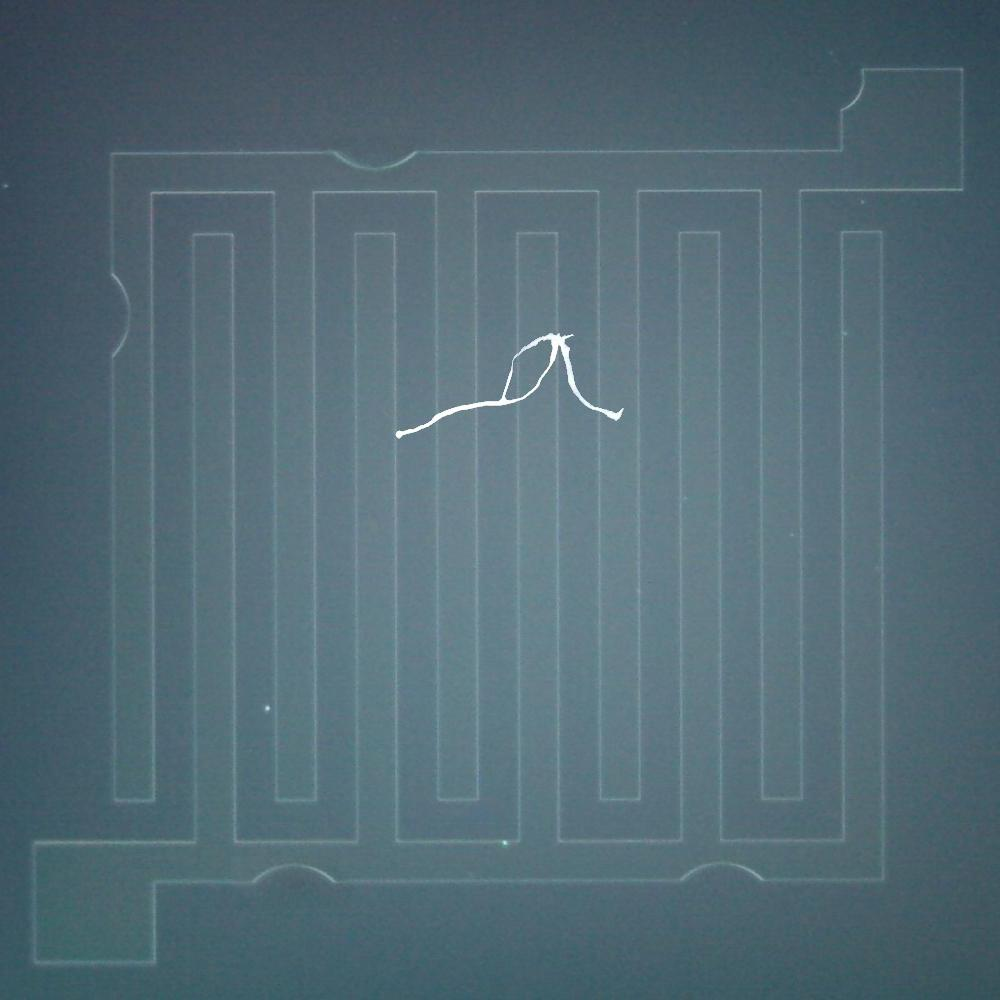curve circuit: (317, 132, 434, 176), (232, 854, 356, 895), (664, 857, 780, 897), (102, 260, 137, 367), (832, 59, 879, 120)
dot: (254, 697, 274, 720)
line: (387, 326, 635, 446)
